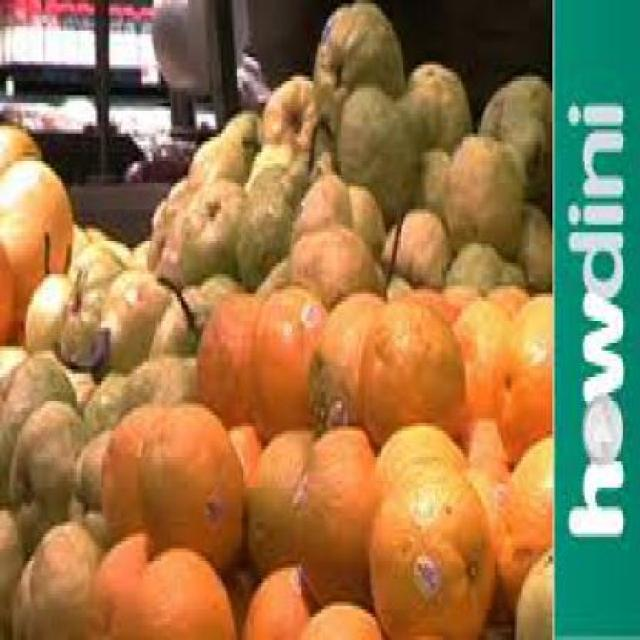BIODEGRADABLE: (367, 458, 493, 636), (136, 400, 244, 578), (355, 290, 463, 453), (290, 419, 376, 606), (311, 0, 404, 142), (6, 392, 86, 550), (248, 282, 324, 446), (332, 80, 420, 217), (0, 346, 71, 503), (0, 152, 71, 305), (491, 289, 551, 465), (476, 65, 550, 206), (495, 430, 550, 618), (123, 545, 234, 637), (244, 423, 311, 575), (367, 422, 461, 530), (306, 290, 380, 427), (448, 293, 514, 445), (441, 133, 521, 252), (235, 164, 302, 290), (28, 518, 98, 636), (98, 400, 158, 537), (192, 286, 250, 419), (290, 224, 384, 304), (147, 278, 235, 358), (98, 271, 171, 366), (88, 529, 148, 637), (177, 172, 237, 274), (378, 202, 448, 289), (237, 556, 311, 636), (255, 72, 314, 165), (403, 53, 474, 125), (68, 426, 108, 545), (288, 171, 352, 244), (21, 263, 74, 351), (457, 412, 509, 499), (119, 354, 196, 412), (205, 106, 258, 183), (508, 198, 550, 290), (398, 141, 450, 213), (512, 541, 551, 636), (55, 286, 100, 366), (294, 598, 380, 636), (1, 503, 25, 635), (442, 241, 502, 293), (243, 141, 309, 187), (348, 178, 386, 256), (77, 370, 117, 438), (407, 282, 459, 332), (0, 118, 38, 175), (224, 419, 264, 472), (8, 549, 32, 636), (254, 248, 291, 304), (85, 221, 130, 267), (77, 248, 117, 294), (487, 285, 527, 324), (0, 239, 15, 338), (185, 130, 213, 179), (149, 194, 177, 232), (159, 240, 183, 282), (128, 236, 152, 278), (497, 252, 525, 282), (146, 232, 162, 274), (68, 221, 81, 259), (165, 175, 189, 194)
